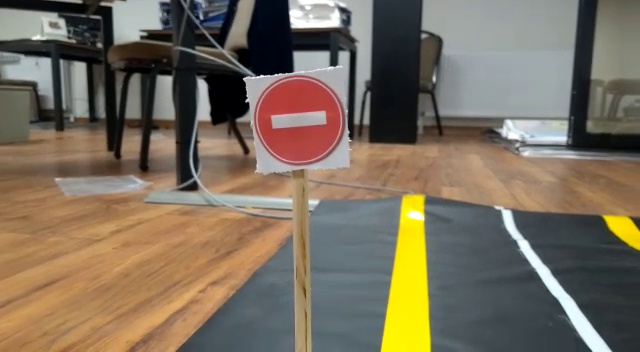girisi_olmayan_yol: (254, 69, 350, 169)
